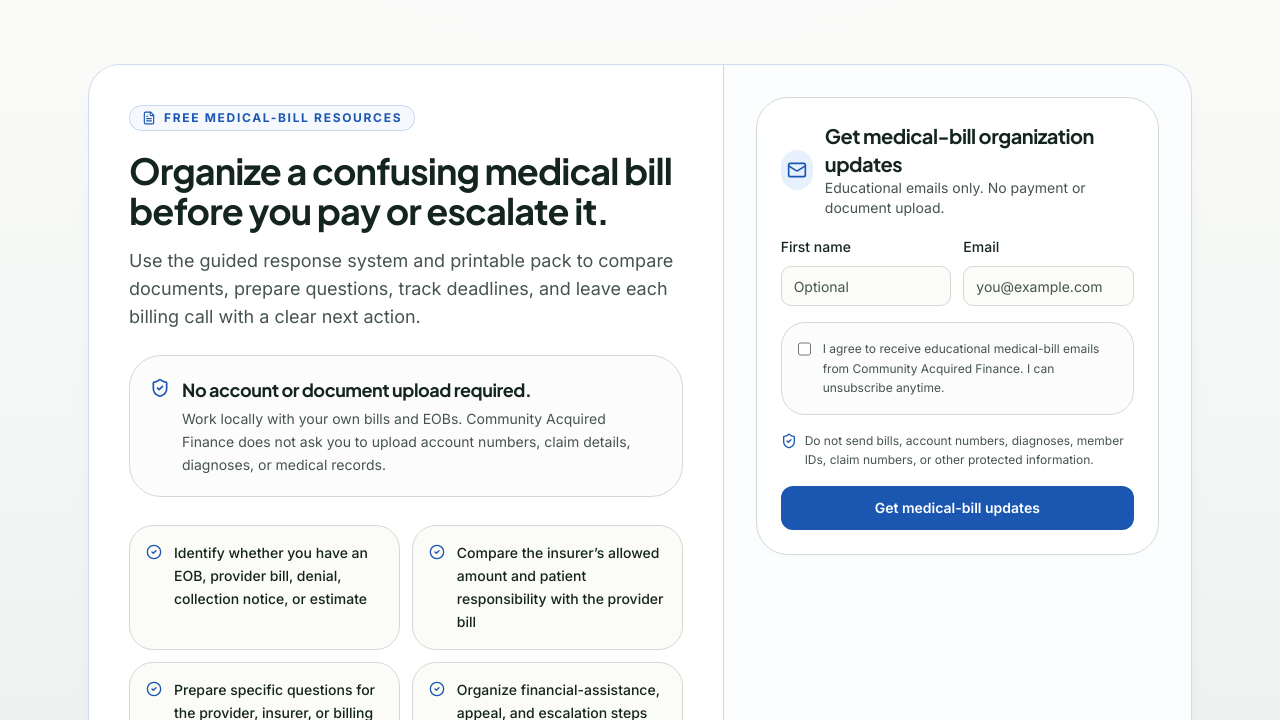
Test case: Medical Bill Product Foundation › requires consent and submits privacy-minimized educational signup fields
Type "reader@example.com" into the field labelled "Email" at (1049, 286), box [963,266,1134,306]
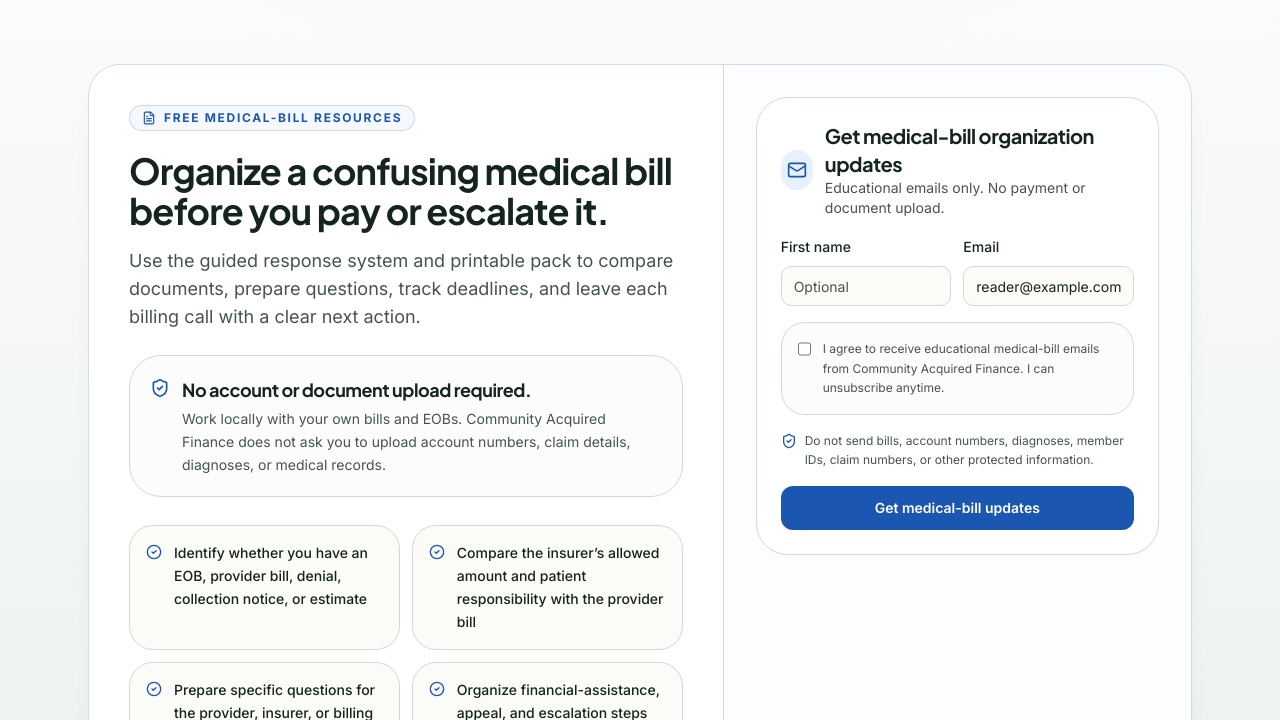
Click the button "Get medical-bill updates" at (957, 508), box [781,486,1134,530]
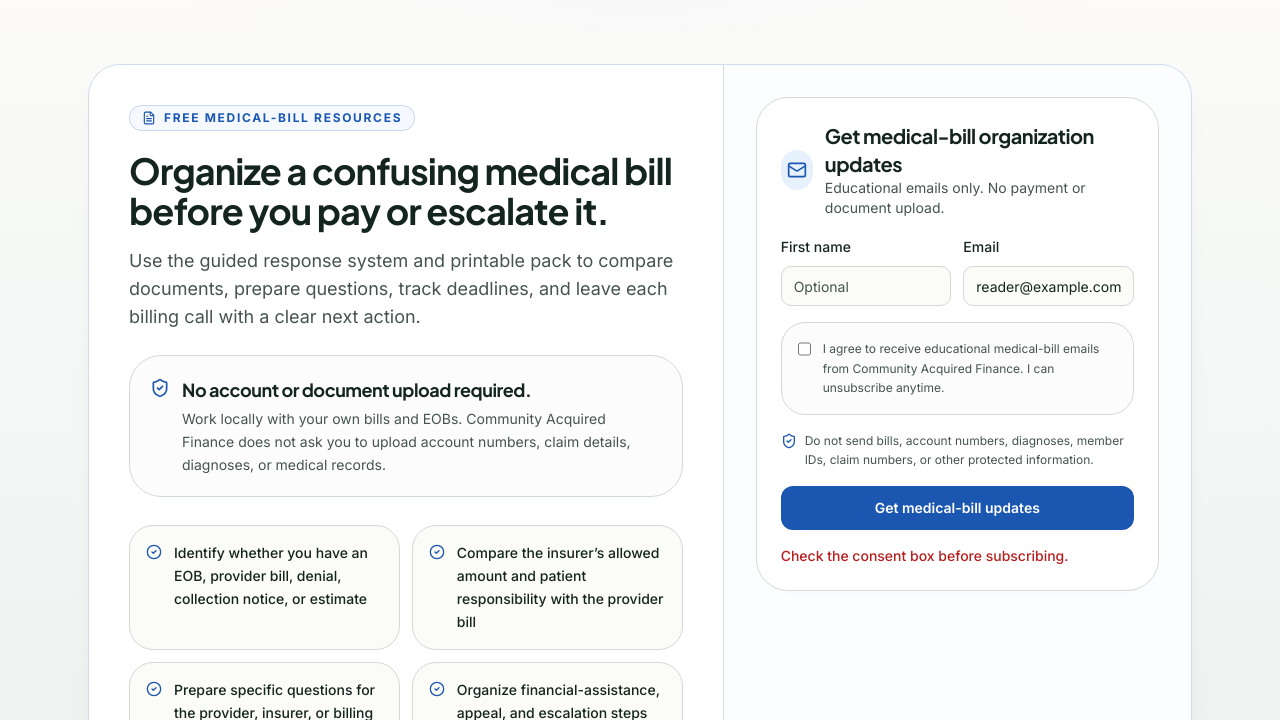
Expected: the text "Check the consent box before subscribing." is shown, [781,546,1068,564]
Click the checkbox at (804, 349), box [798,341,811,357]
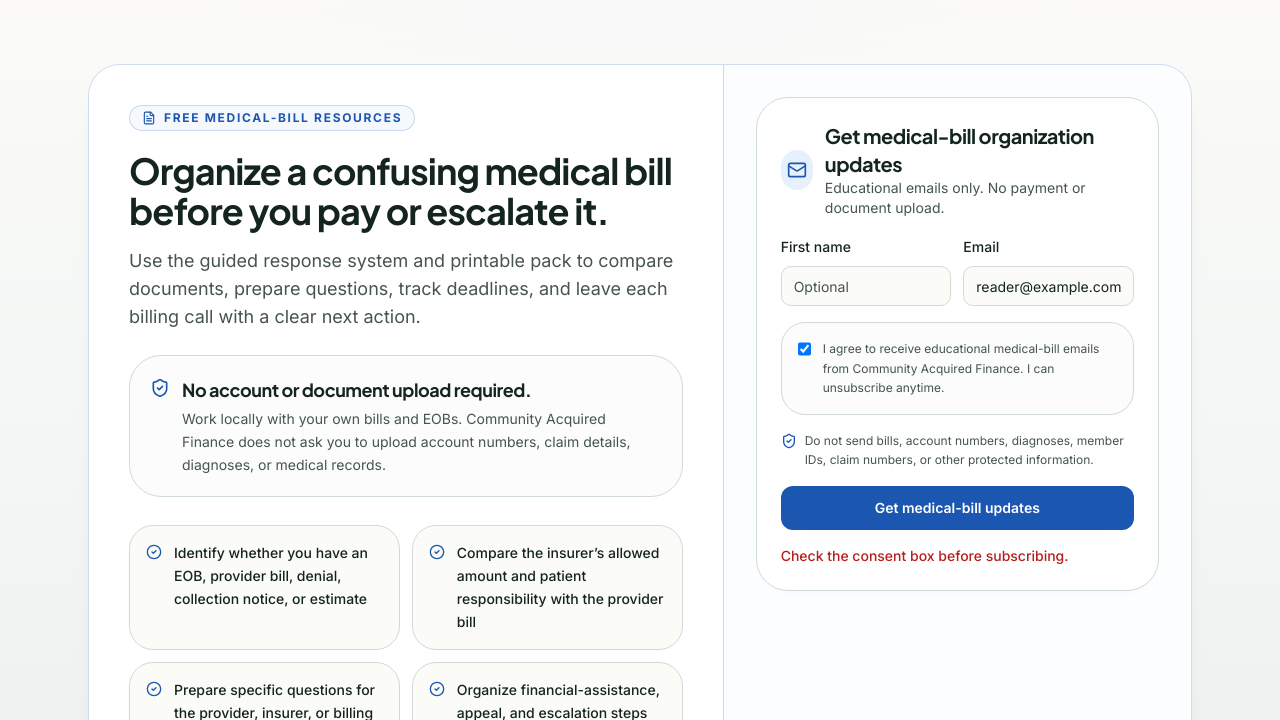
Click the button "Get medical-bill updates" at (957, 508), box [781,486,1134,530]
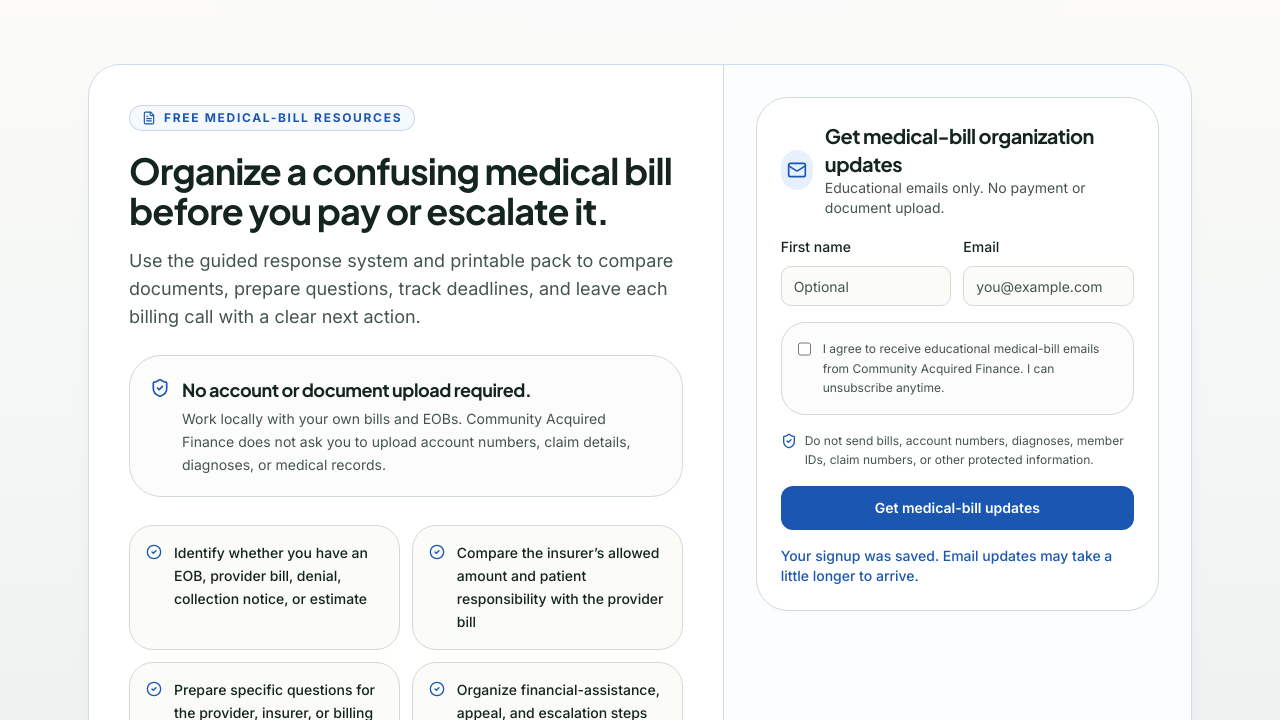
Expected: the text "Your signup was saved. Email updates may take a little longer to arrive." is shown, [781,546,1134,586]
